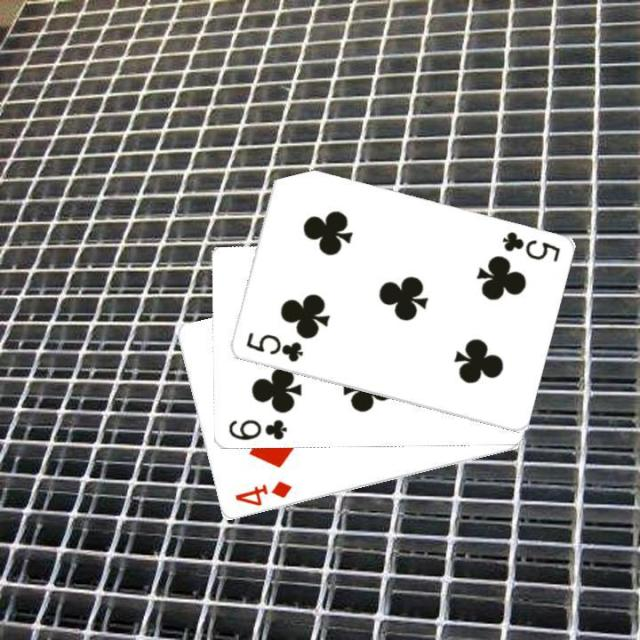4D: (230, 478, 294, 508)
5C: (498, 228, 561, 264), (241, 329, 304, 364)
6C: (224, 416, 288, 443)
